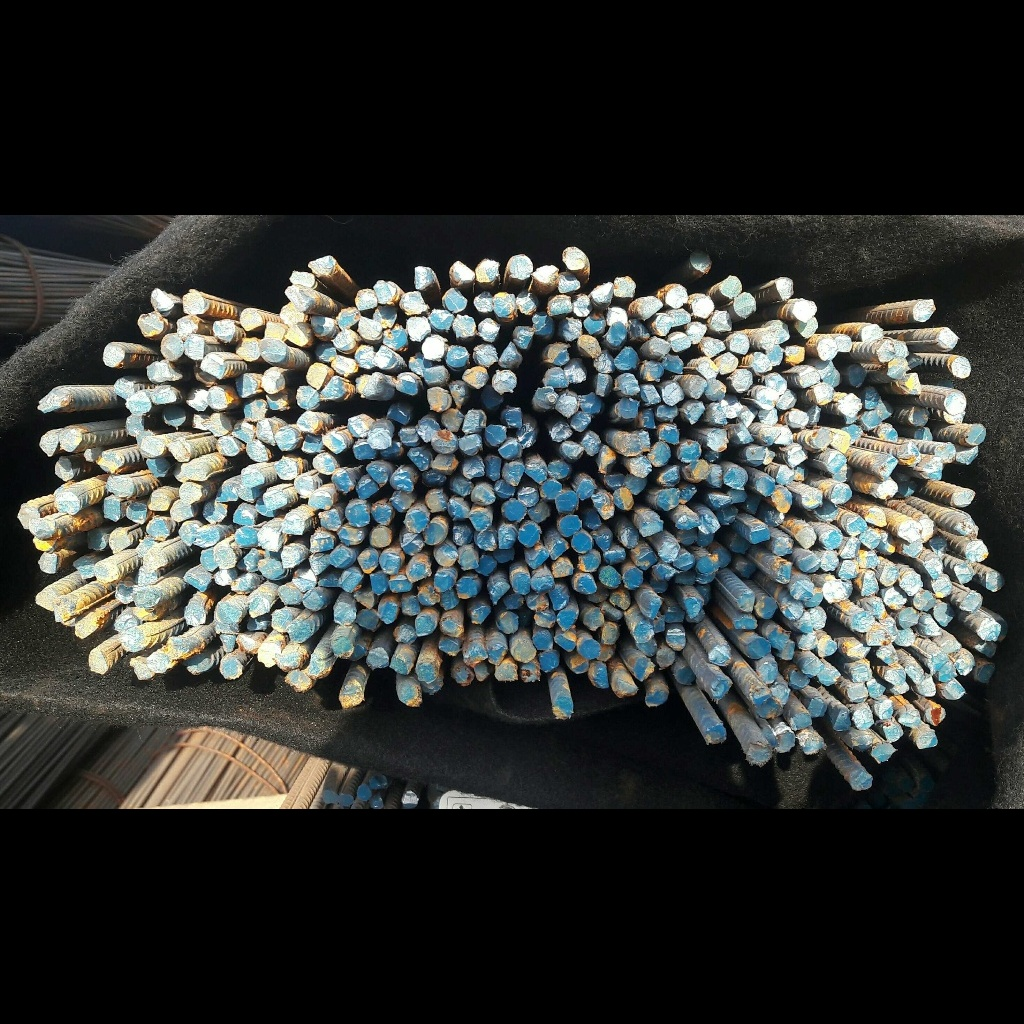dipstick: (283, 285, 315, 313), (39, 388, 71, 412), (383, 325, 410, 351), (280, 301, 308, 326), (978, 619, 1007, 643), (492, 292, 518, 318), (137, 312, 163, 337), (58, 426, 84, 451), (121, 627, 147, 652), (185, 567, 211, 592), (150, 289, 174, 316), (161, 334, 185, 361), (73, 613, 98, 638), (508, 255, 533, 280), (637, 295, 662, 320), (55, 489, 79, 515), (260, 339, 286, 363), (305, 364, 331, 388), (420, 336, 446, 360), (756, 696, 783, 719), (399, 292, 427, 314), (345, 501, 369, 526), (407, 316, 431, 341), (427, 387, 451, 412), (463, 409, 487, 434), (766, 319, 790, 344), (932, 655, 956, 680), (98, 451, 124, 474), (557, 318, 583, 341), (565, 357, 588, 383), (106, 476, 133, 498), (147, 362, 176, 382), (443, 288, 467, 312), (259, 528, 284, 551), (348, 415, 373, 438), (240, 308, 263, 333), (374, 280, 399, 303), (358, 317, 383, 340), (416, 418, 439, 443), (640, 512, 663, 537), (499, 344, 522, 369), (605, 322, 628, 347), (614, 346, 639, 369), (146, 518, 172, 540), (258, 557, 284, 579), (183, 460, 209, 482), (308, 255, 334, 277), (372, 307, 398, 329), (462, 366, 488, 388), (488, 577, 510, 603), (745, 637, 771, 659), (755, 657, 777, 683), (771, 487, 793, 513), (944, 390, 966, 416), (285, 671, 312, 692), (216, 435, 243, 456), (176, 316, 199, 340), (109, 528, 133, 551), (95, 561, 119, 584), (143, 552, 167, 575), (298, 412, 322, 435), (399, 684, 423, 707), (364, 374, 387, 398), (396, 372, 420, 395), (476, 258, 499, 282), (404, 509, 428, 532), (407, 558, 430, 582), (515, 291, 539, 314), (579, 333, 602, 357), (748, 742, 772, 765), (730, 368, 753, 392), (793, 299, 816, 323), (839, 392, 862, 416), (898, 442, 921, 466), (883, 587, 907, 610), (183, 290, 205, 315), (237, 337, 259, 362), (288, 325, 313, 347), (374, 347, 399, 369), (471, 483, 496, 505), (617, 434, 642, 456), (755, 595, 777, 620), (875, 455, 897, 480), (276, 648, 302, 669), (388, 402, 414, 423), (545, 294, 571, 315), (201, 354, 224, 377), (493, 370, 516, 393), (577, 550, 600, 573), (535, 387, 558, 410), (664, 284, 687, 307), (691, 296, 714, 319), (101, 344, 125, 366), (203, 501, 227, 523), (258, 644, 280, 668), (275, 456, 297, 480), (207, 413, 231, 435), (262, 370, 284, 394), (450, 261, 474, 283), (433, 544, 457, 566), (503, 462, 525, 486), (544, 367, 568, 389), (616, 373, 640, 395), (650, 442, 672, 466), (823, 580, 847, 602), (851, 610, 875, 632), (899, 572, 921, 596), (194, 526, 219, 547), (282, 514, 307, 535), (274, 429, 299, 450), (355, 344, 376, 369), (423, 365, 448, 386), (458, 434, 483, 455), (438, 615, 463, 636), (899, 521, 924, 542), (352, 440, 378, 460), (432, 454, 458, 474), (186, 388, 208, 411), (55, 457, 77, 480), (183, 602, 205, 625), (213, 547, 236, 569), (294, 568, 316, 591), (236, 375, 258, 398), (297, 386, 319, 409), (366, 647, 388, 670), (474, 344, 497, 366), (453, 315, 476, 337), (401, 533, 424, 555), (464, 643, 487, 665), (447, 498, 469, 521), (462, 457, 485, 479), (599, 566, 621, 589), (612, 487, 634, 510), (563, 247, 585, 270), (583, 313, 606, 335), (710, 676, 732, 699), (725, 467, 747, 490), (708, 311, 731, 333), (715, 353, 738, 375), (755, 388, 778, 410), (784, 444, 807, 466), (899, 373, 922, 395), (140, 436, 164, 457), (241, 467, 265, 488), (243, 400, 267, 421), (311, 454, 335, 475), (310, 531, 334, 552), (322, 432, 346, 453), (324, 376, 345, 400), (479, 318, 500, 342), (425, 491, 449, 512), (613, 677, 637, 698), (634, 657, 655, 681), (502, 499, 526, 520), (497, 437, 521, 458), (558, 515, 582, 536), (580, 432, 601, 456), (546, 344, 570, 365), (734, 292, 755, 316), (819, 548, 840, 572), (934, 602, 955, 626), (931, 574, 952, 598), (89, 650, 109, 675), (643, 594, 663, 619), (86, 529, 108, 551), (72, 557, 94, 579), (132, 657, 154, 679), (220, 658, 242, 680), (341, 686, 363, 708), (358, 610, 380, 632), (365, 464, 387, 486), (212, 319, 234, 341), (337, 306, 359, 328), (689, 251, 711, 273), (18, 506, 39, 529), (31, 518, 54, 539), (147, 489, 170, 510), (54, 598, 75, 621), (234, 505, 257, 526), (391, 653, 414, 674), (380, 552, 401, 575), (390, 471, 413, 492), (368, 427, 391, 448), (446, 345, 469, 366), (497, 611, 518, 634), (539, 649, 560, 672), (519, 523, 540, 546), (526, 548, 549, 569), (547, 459, 570, 480), (536, 265, 559, 286), (787, 668, 810, 689), (721, 275, 742, 298), (641, 361, 664, 382), (705, 379, 726, 402), (749, 353, 772, 374), (765, 373, 788, 394), (797, 366, 820, 387), (816, 337, 837, 360), (871, 743, 894, 764), (184, 336, 204, 360), (208, 387, 228, 411), (334, 469, 354, 493), (333, 355, 357, 375), (437, 636, 461, 656), (455, 578, 479, 598), (473, 531, 497, 551), (645, 686, 669, 706), (790, 580, 814, 600), (795, 316, 819, 336), (813, 382, 833, 406), (842, 514, 866, 534), (955, 652, 975, 676), (171, 500, 192, 522), (37, 552, 59, 573), (272, 610, 293, 632), (288, 621, 310, 642), (279, 583, 301, 604), (282, 546, 304, 567), (246, 440, 267, 462), (357, 478, 379, 499), (371, 504, 393, 525), (355, 289, 377, 310), (431, 309, 453, 330), (442, 409, 463, 431), (469, 509, 491, 530), (476, 554, 497, 576), (514, 641, 536, 662), (632, 622, 653, 644), (575, 574, 597, 595), (525, 461, 546, 483), (532, 314, 553, 336), (593, 352, 615, 373), (604, 544, 626, 565), (710, 644, 732, 665), (679, 440, 701, 461), (748, 522, 770, 543), (663, 383, 684, 405), (707, 429, 728, 451), (685, 323, 706, 345), (728, 332, 749, 354), (913, 300, 934, 322), (922, 457, 943, 479), (966, 541, 988, 562), (961, 590, 983, 611), (162, 406, 185, 426), (179, 483, 202, 503), (247, 596, 270, 616), (414, 266, 434, 289), (496, 524, 516, 547), (553, 697, 573, 720), (550, 586, 570, 609), (584, 608, 604, 631), (512, 326, 532, 349), (704, 724, 727, 744), (875, 339, 895, 362), (840, 536, 860, 559), (289, 271, 316, 288), (39, 432, 58, 456), (146, 653, 170, 672), (264, 490, 288, 509), (358, 549, 377, 573), (333, 331, 357, 350), (577, 640, 601, 659), (549, 422, 573, 441), (604, 308, 628, 327), (701, 338, 725, 357), (796, 553, 820, 572), (808, 607, 827, 631), (861, 571, 880, 595), (167, 639, 188, 660), (170, 441, 191, 462), (319, 510, 340, 531), (332, 636, 353, 657), (376, 602, 397, 623), (453, 665, 474, 686), (610, 589, 631, 610), (557, 395, 578, 416), (614, 277, 635, 298), (617, 397, 638, 418), (658, 540, 679, 561), (697, 553, 718, 574), (657, 489, 678, 510), (781, 598, 802, 619), (936, 329, 957, 350), (888, 358, 909, 379), (953, 487, 974, 508), (310, 489, 332, 509), (419, 584, 439, 606), (470, 605, 492, 625), (533, 629, 553, 651), (547, 538, 569, 558), (486, 424, 506, 446), (540, 480, 562, 500), (656, 647, 676, 669), (581, 393, 603, 413), (557, 272, 579, 292), (629, 457, 651, 477), (688, 460, 710, 480), (776, 730, 796, 752), (802, 734, 824, 754), (846, 364, 866, 386), (875, 479, 897, 499), (845, 640, 867, 660), (884, 666, 906, 686), (875, 565, 897, 585), (935, 442, 955, 464), (179, 523, 198, 546), (303, 591, 326, 610), (459, 547, 478, 570), (685, 401, 704, 424), (758, 427, 781, 446), (924, 555, 943, 578), (985, 569, 1004, 592), (591, 664, 609, 688), (867, 627, 891, 645), (101, 499, 121, 520), (126, 502, 146, 523), (218, 481, 238, 502), (335, 604, 355, 625), (371, 526, 391, 547), (264, 323, 285, 343), (424, 524, 445, 544), (415, 615, 435, 636), (416, 663, 437, 683), (453, 523, 473, 544), (520, 662, 540, 683), (518, 486, 538, 507), (572, 533, 592, 554), (624, 568, 644, 589), (660, 466, 681, 486), (736, 558, 757, 578), (670, 331, 691, 351), (698, 358, 719, 378), (786, 409, 807, 429), (831, 484, 852, 504), (821, 528, 842, 548), (881, 721, 902, 741), (913, 590, 934, 610), (951, 357, 971, 378), (965, 423, 985, 444), (237, 526, 256, 548), (330, 549, 352, 568), (389, 574, 411, 593), (488, 643, 507, 665), (495, 662, 517, 681), (729, 534, 751, 553), (801, 489, 823, 508), (776, 390, 798, 409), (851, 771, 873, 790), (854, 707, 873, 729), (688, 377, 706, 400), (897, 709, 920, 727), (775, 277, 792, 301), (114, 379, 134, 399), (294, 477, 314, 497), (399, 427, 419, 447), (557, 609, 577, 629), (665, 629, 685, 649), (807, 698, 827, 718), (803, 657, 823, 677), (775, 465, 795, 485), (826, 454, 846, 474), (976, 663, 996, 683), (369, 574, 388, 595), (594, 529, 613, 550), (573, 295, 592, 316), (797, 527, 816, 548), (745, 447, 766, 466), (654, 313, 673, 334), (865, 508, 886, 527), (838, 561, 859, 580), (154, 387, 176, 405), (394, 626, 416, 644), (601, 623, 619, 645), (658, 426, 680, 444), (861, 324, 883, 342), (849, 663, 871, 681), (957, 519, 979, 537), (200, 548, 217, 571), (900, 541, 923, 558), (862, 386, 878, 410), (556, 632, 575, 652), (562, 441, 582, 460), (593, 283, 613, 302), (791, 711, 811, 730), (757, 475, 776, 495), (833, 431, 852, 451), (898, 607, 918, 626), (908, 408, 928, 427), (534, 609, 555, 627), (527, 592, 548, 610), (512, 574, 530, 595), (552, 559, 573, 577), (677, 665, 695, 686), (674, 552, 695, 570), (713, 548, 731, 569), (657, 403, 678, 421), (649, 338, 670, 356), (531, 574, 553, 591), (916, 730, 938, 747), (942, 683, 964, 700), (570, 655, 589, 674), (620, 528, 639, 547), (683, 598, 702, 617), (861, 410, 880, 429), (435, 572, 453, 592), (506, 407, 524, 427), (773, 538, 793, 556), (734, 616, 758, 631), (861, 529, 881, 547), (858, 552, 879, 569), (846, 684, 867, 701), (925, 708, 946, 725), (797, 633, 818, 650), (920, 676, 937, 697), (774, 562, 790, 584), (817, 638, 836, 656), (875, 700, 893, 719), (577, 480, 594, 500), (894, 629, 914, 646), (676, 529, 697, 545), (738, 592, 754, 613), (834, 708, 850, 729), (475, 293, 493, 311), (677, 514, 698, 529), (813, 431, 831, 447), (837, 334, 851, 353), (914, 429, 933, 442), (709, 495, 731, 506)
